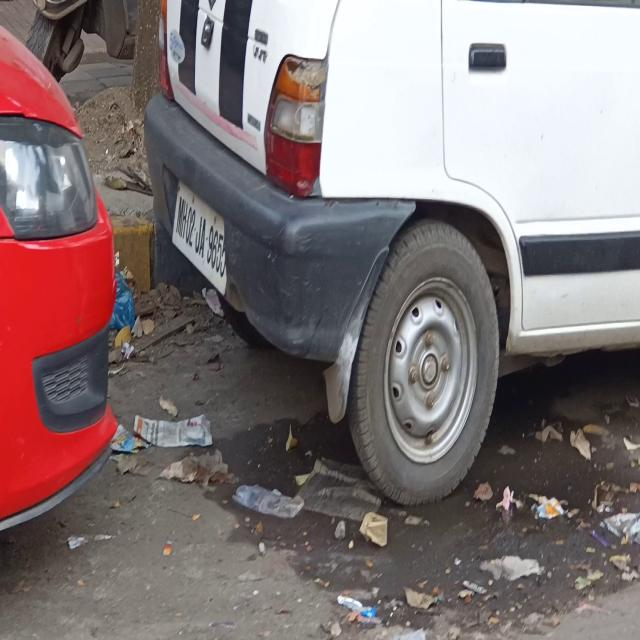license-plate: (172, 178, 228, 294)
